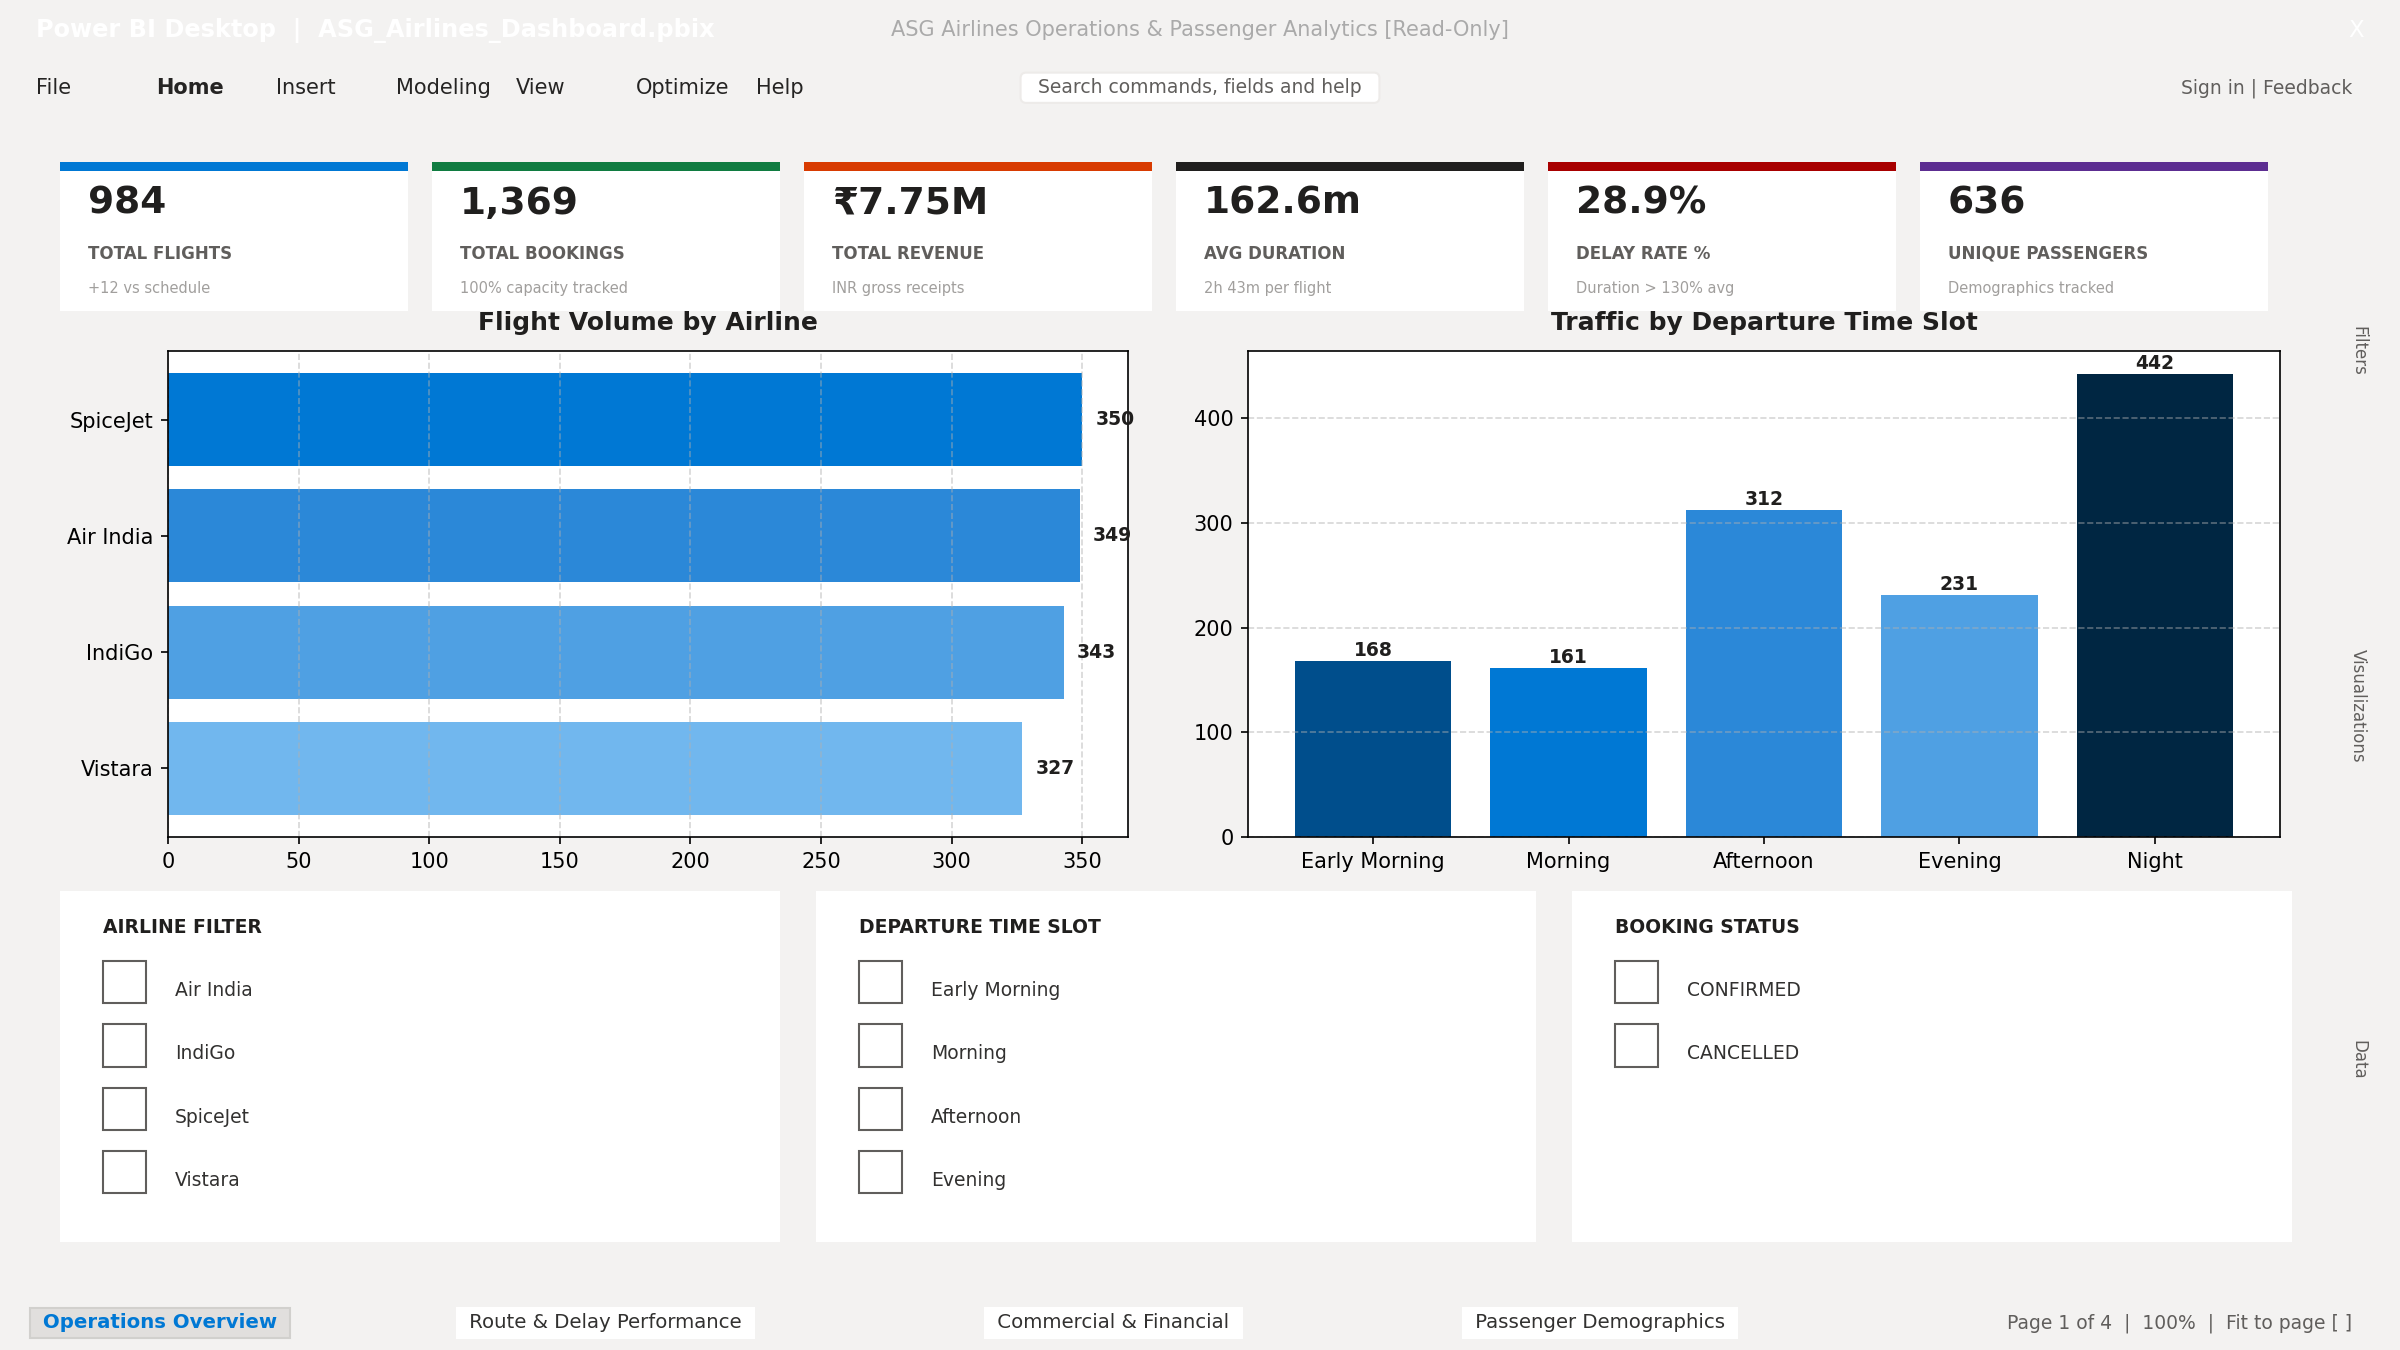

The page's visual inventory and layout, read from the dashboard file:
{"tool":"powerbi","page":{"name":"Operations Overview","canvas":[1280,720],"ordinal":0},"visuals":[{"type":"card","fields":{"Values":["master_dataset.Total Flights"]},"box":[20,20,220,110],"z":0},{"type":"card","fields":{"Values":["master_dataset.Total Bookings"]},"box":[260,20,220,110],"z":1000},{"type":"card","fields":{"Values":["master_dataset.Total Revenue"]},"box":[500,20,220,110],"z":2000},{"type":"card","fields":{"Values":["master_dataset.Avg Duration"]},"box":[740,20,220,110],"z":3000},{"type":"card","fields":{"Values":["master_dataset.Total Unique Passengers"]},"box":[980,20,220,110],"z":4000},{"type":"barChart","fields":{"Category":["master_dataset.airline"],"Y":["master_dataset.Total Bookings"]},"box":[20,150,580,330],"z":5000},{"type":"columnChart","fields":{"Category":["master_dataset.departure_slot"],"Y":["master_dataset.Total Flights"]},"box":[620,150,580,330],"z":6000},{"type":"slicer","fields":{"Values":["master_dataset.airline"]},"box":[20,500,380,180],"z":7000},{"type":"slicer","fields":{"Values":["master_dataset.departure_slot"]},"box":[420,500,380,180],"z":8000},{"type":"slicer","fields":{"Values":["master_dataset.status"]},"box":[820,500,380,180],"z":9000}]}

Visuals, with their boxes on the page's 1280x720 design canvas (x1, y1, x2, y2). These are canvas units, not pixel positions in the 2400x1350 screenshot, which may show the page scaled, cropped or inside an application window:
card - master_dataset.Total Flights: rect(20, 20, 240, 130)
card - master_dataset.Total Bookings: rect(260, 20, 480, 130)
card - master_dataset.Total Revenue: rect(500, 20, 720, 130)
card - master_dataset.Avg Duration: rect(740, 20, 960, 130)
card - master_dataset.Total Unique Passengers: rect(980, 20, 1200, 130)
barChart - master_dataset.airline x master_dataset.Total Bookings: rect(20, 150, 600, 480)
columnChart - master_dataset.departure_slot x master_dataset.Total Flights: rect(620, 150, 1200, 480)
slicer - master_dataset.airline: rect(20, 500, 400, 680)
slicer - master_dataset.departure_slot: rect(420, 500, 800, 680)
slicer - master_dataset.status: rect(820, 500, 1200, 680)
